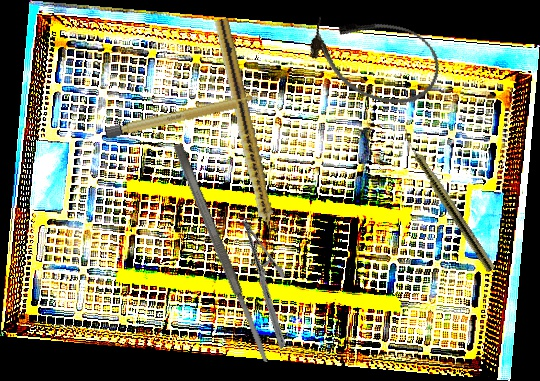Cannula: (299, 0, 450, 117)
Handpiece: (209, 17, 281, 247), (396, 127, 498, 273)
Needle Holder: (196, 216, 331, 350)
Scalpel Handle: (103, 92, 262, 140)
Spatula Surgical: (171, 142, 272, 365)
